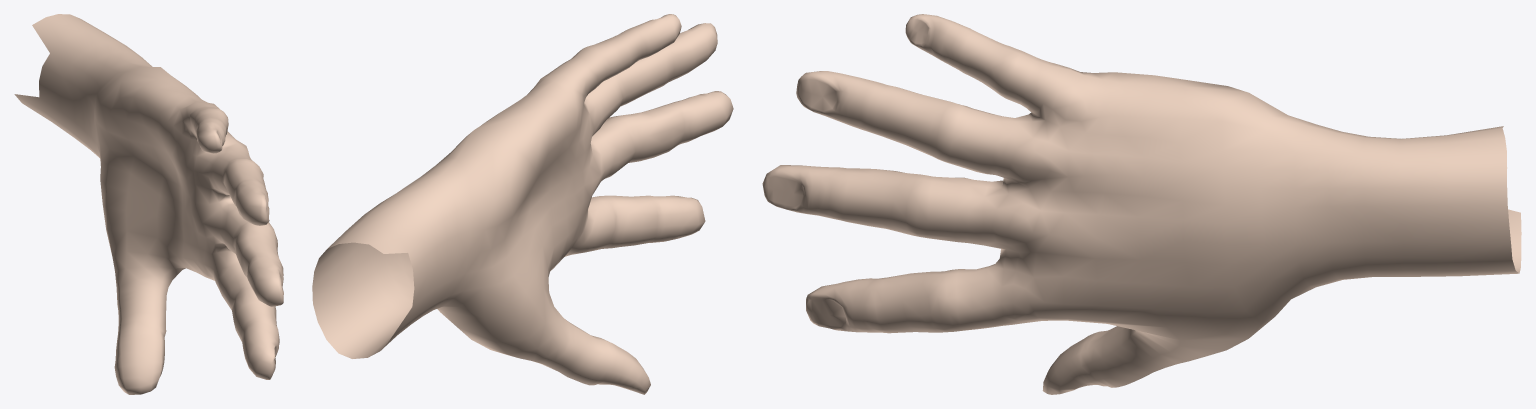
The model's file is human_righthand.dae.
3 renders of one model, left to right at view 1: azimuth 30°, elevation 25°; view 2: azimuth 150°, elevation 25°; view 3: azimuth 270°, elevation 25°, orthographic. The views are drawn at different scales.
Visible parts, largest first — view 1: frank_skeleton-base; view 2: frank_skeleton-base; view 3: frank_skeleton-base.
Part boxes in pixels (x1,y1,x2,y2): frank_skeleton-base: (14, 14, 283, 394); frank_skeleton-base: (312, 14, 733, 394); frank_skeleton-base: (762, 14, 1521, 394).
Bounding box in the file's own units: 0.0761 × 0.2681 × 0.1531.
